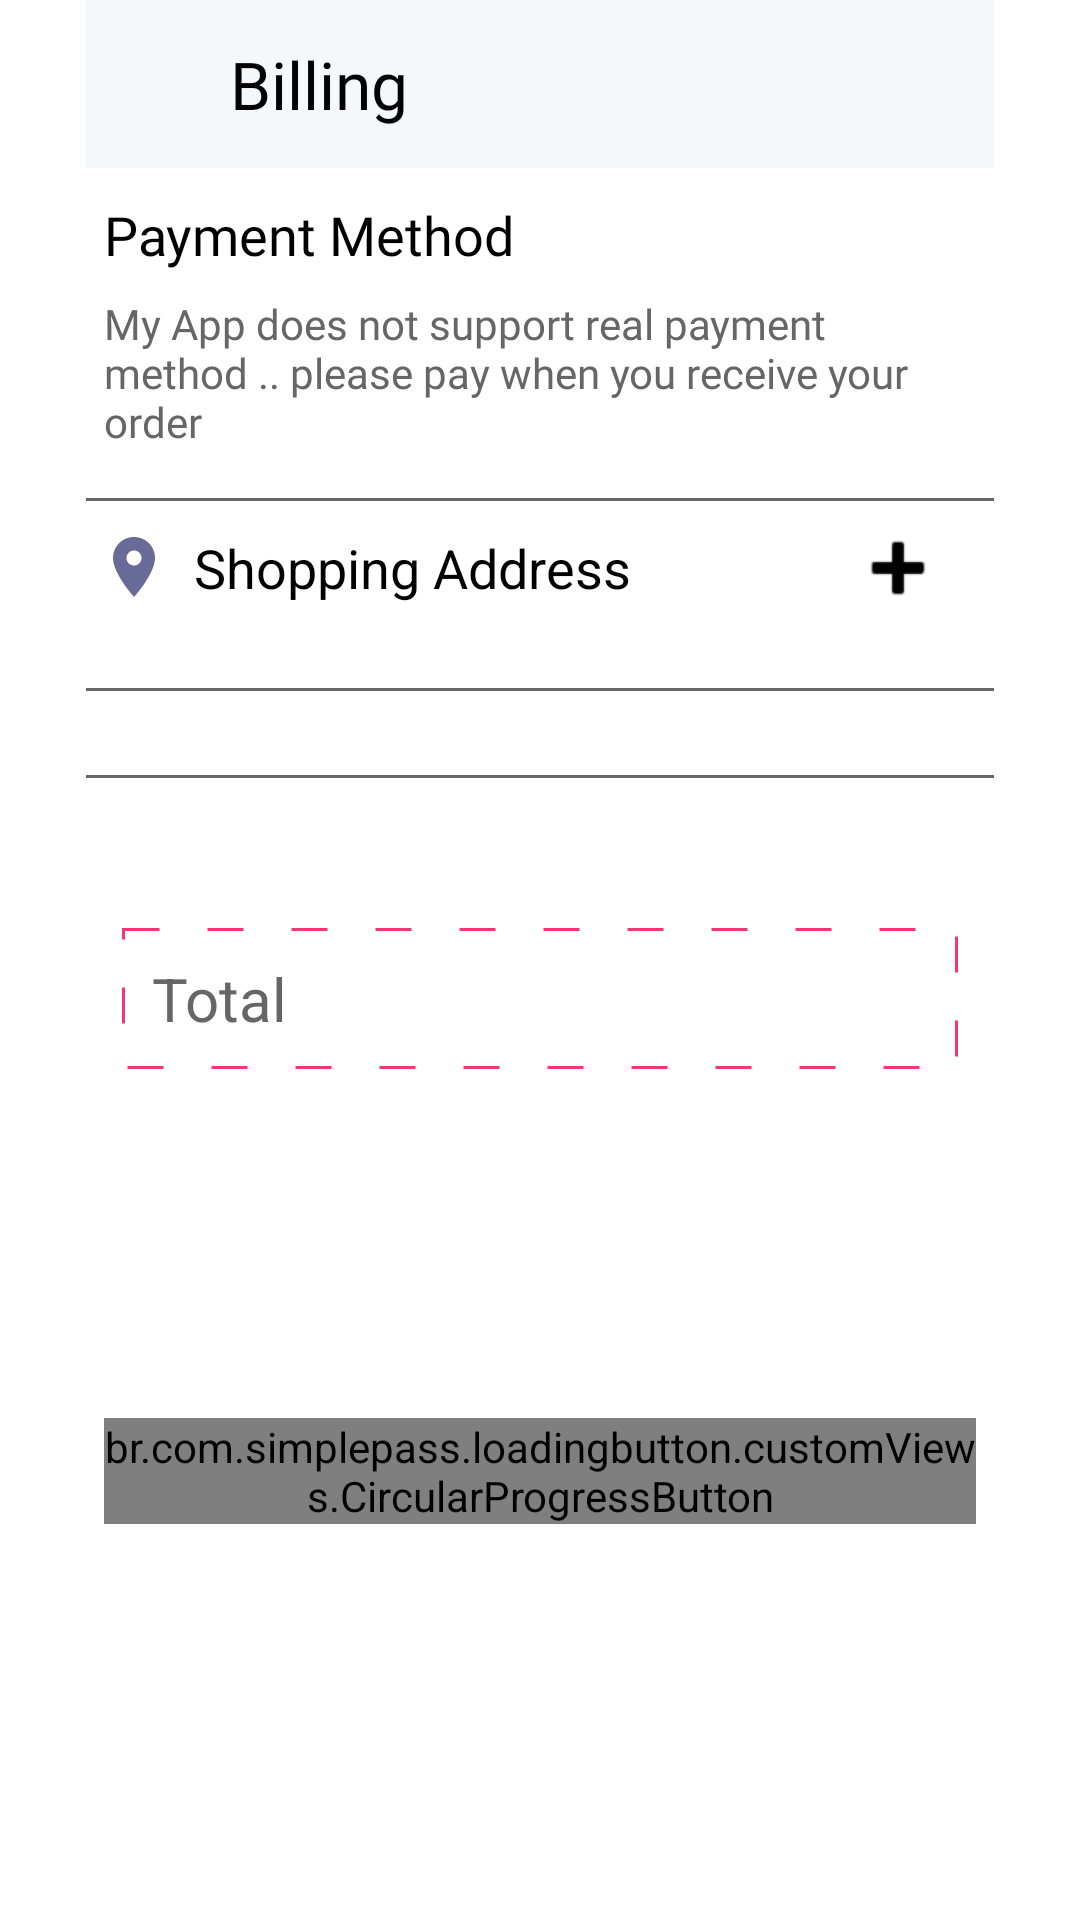

Icons on this 1080px×1920px Android screen, each with the point to tap as point (x, y):
add: point (898, 568)
location on: point (134, 567)
